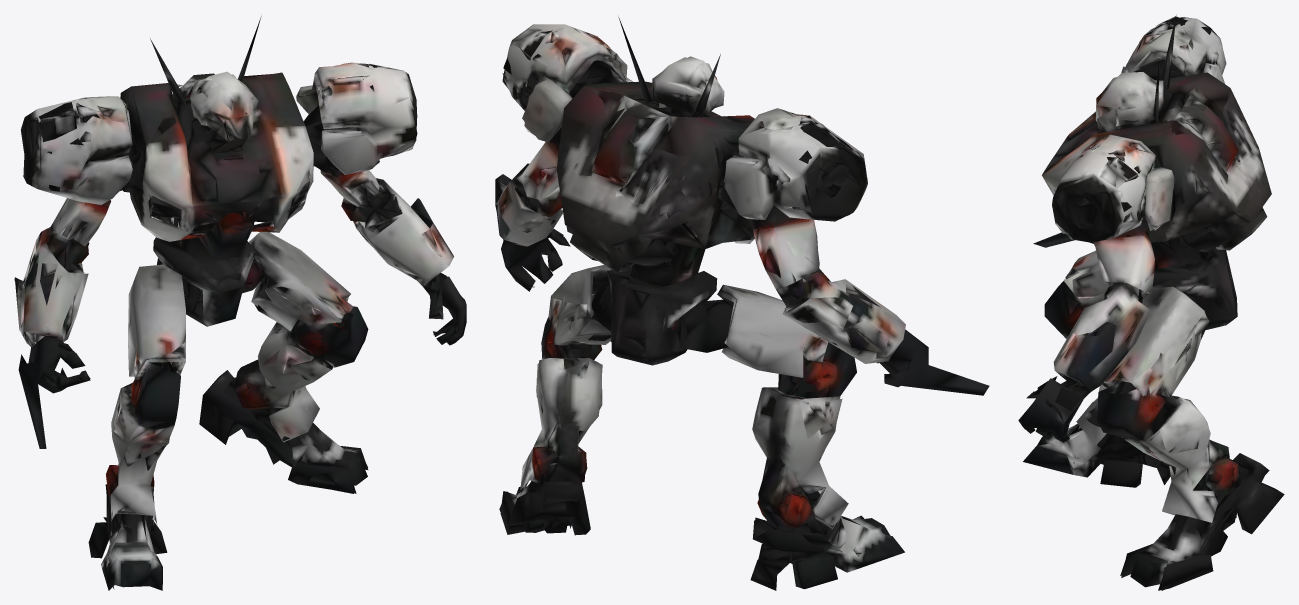
Rendered from detail_3_lo.glb.
The picture shows the model from 3 angles, left to right: view 1: azimuth 30°, elevation 25°; view 2: azimuth 150°, elevation 25°; view 3: azimuth 270°, elevation 25°; orthographic projection. The views are drawn at different scales.
Parts seen in each view (by area): view 1: Mesh_0.001; view 2: Mesh_0.001; view 3: Mesh_0.001.
Part boxes in pixels (<box>): Mesh_0.001: <box>14,16,466,590</box>; Mesh_0.001: <box>495,17,989,590</box>; Mesh_0.001: <box>1018,15,1284,590</box>.
Size of the model in its own units: 0.929 by 0.9976 by 0.4957.
Materials: 1 (1 with a texture image).
